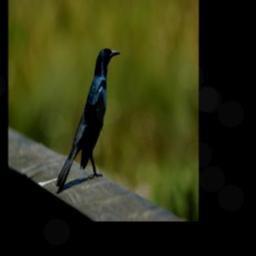Crow: (54, 46, 119, 192)
